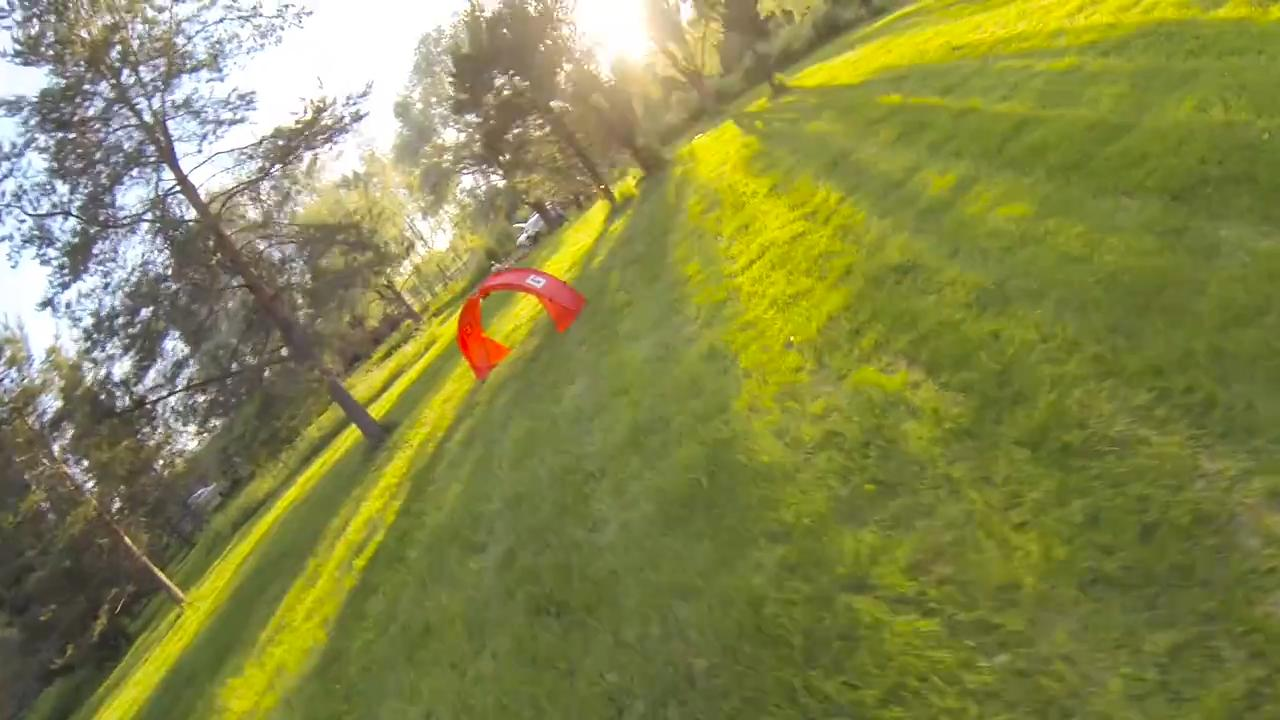gate: (452, 268, 590, 383)
